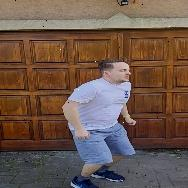high_jumps: (47, 55, 144, 188)
